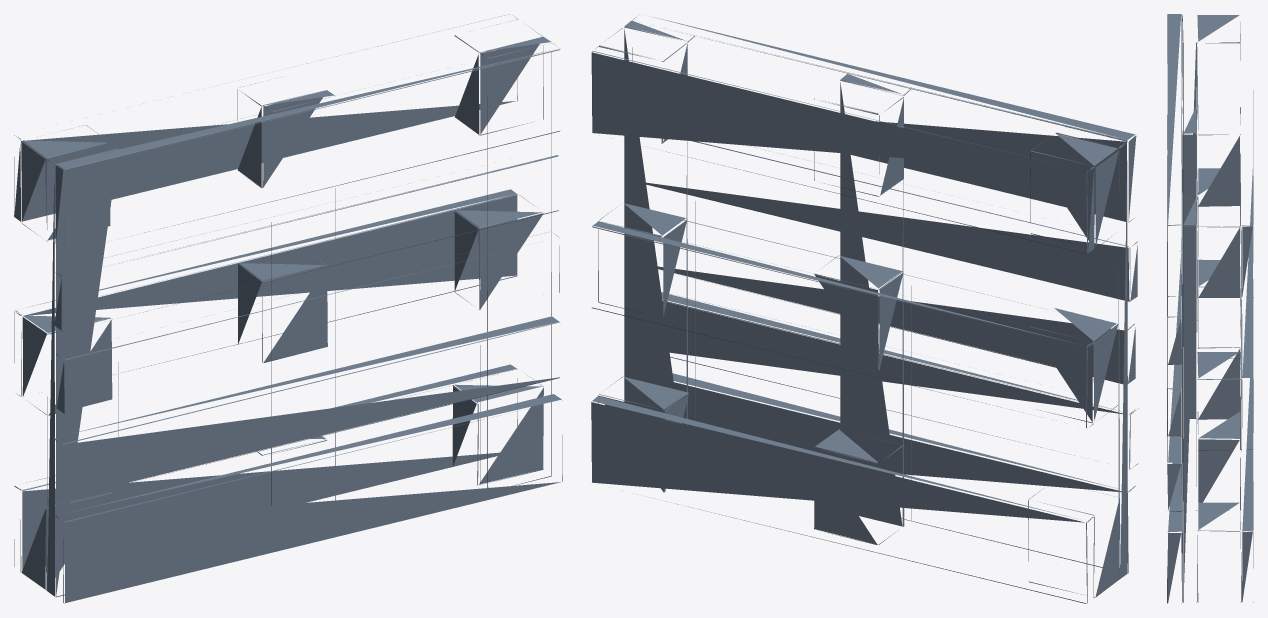
The model's file is pallet_b01.glb.
3 views of the same model, side by side, from view 1: azimuth 30°, elevation 25°; view 2: azimuth 150°, elevation 25°; view 3: azimuth 270°, elevation 25° (orthographic). The views are drawn at different scales.
Visible parts, largest first — view 1: geometry_0; view 2: geometry_0; view 3: geometry_0.
Part boxes in pixels (x1,y1,x2,y2): geometry_0: (14, 14, 562, 603); geometry_0: (591, 15, 1138, 603); geometry_0: (1167, 14, 1253, 603).
Size of the model in its own units: 0.48 by 0.3975 by 0.0827.
